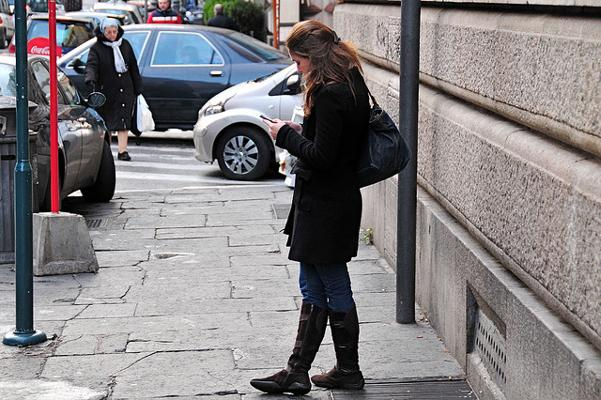person: (249, 20, 369, 396)
